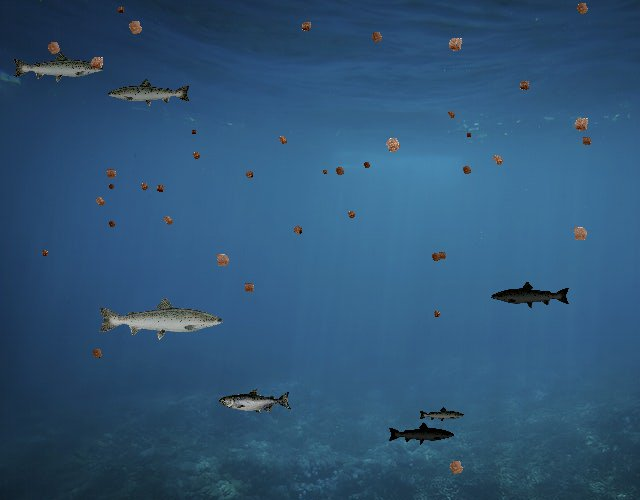Fish: (96, 295, 225, 341), (11, 51, 105, 85), (106, 77, 192, 108), (490, 280, 571, 310), (219, 389, 292, 415), (387, 421, 455, 446), (418, 406, 465, 423)
Pellet: (441, 30, 470, 59), (567, 111, 595, 139), (570, 0, 594, 20), (296, 16, 317, 37), (457, 161, 476, 180), (343, 207, 360, 224), (429, 307, 444, 321), (38, 246, 52, 260)
